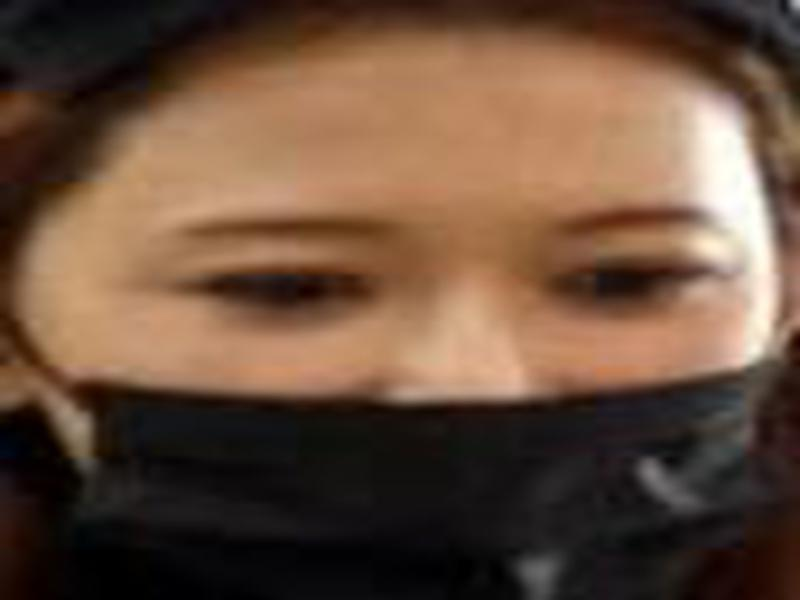with_mask: (6, 2, 800, 600)
